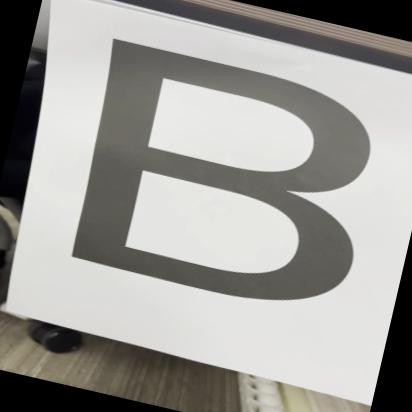seat: (32, 10, 412, 344)
